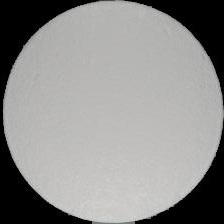61919-073: (0, 0, 224, 224)
